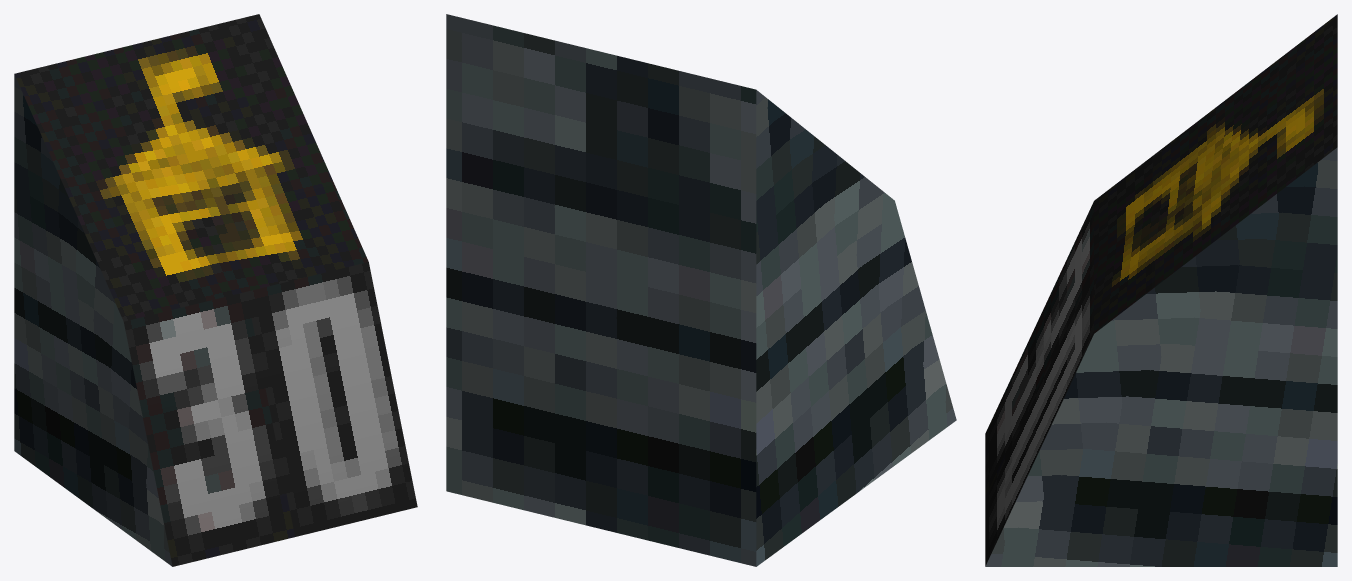
3 views of the same model, side by side, from view 1: azimuth 30°, elevation 25°; view 2: azimuth 150°, elevation 25°; view 3: azimuth 270°, elevation 25° (orthographic). The views are drawn at different scales.
Parts seen in each view (by area): view 1: Conft_obj_029; view 2: Conft_obj_029; view 3: Conft_obj_029.
Boxes of the visible parts, <box> form: Conft_obj_029: <box>14,14,417,566</box>; Conft_obj_029: <box>446,14,956,566</box>; Conft_obj_029: <box>985,14,1337,566</box>.
Bounding box in the file's own units: 1 × 1.47 × 1.12.
Materials: 1 (1 with a texture image).
